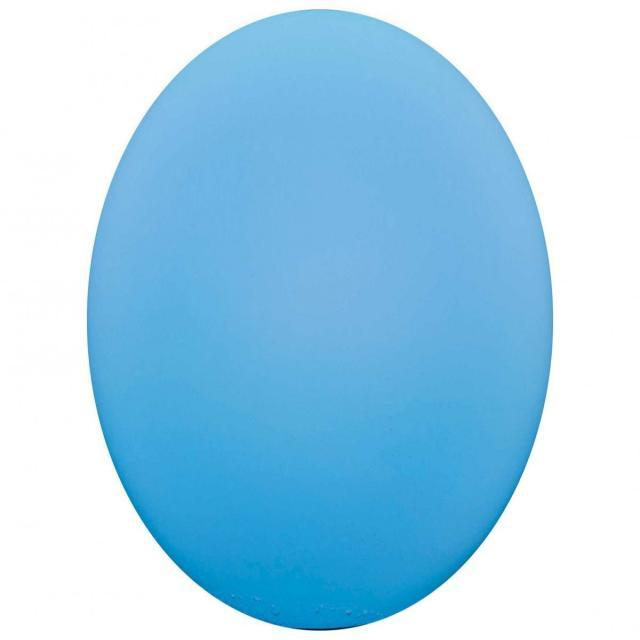Circle: (87, 8, 554, 632)
